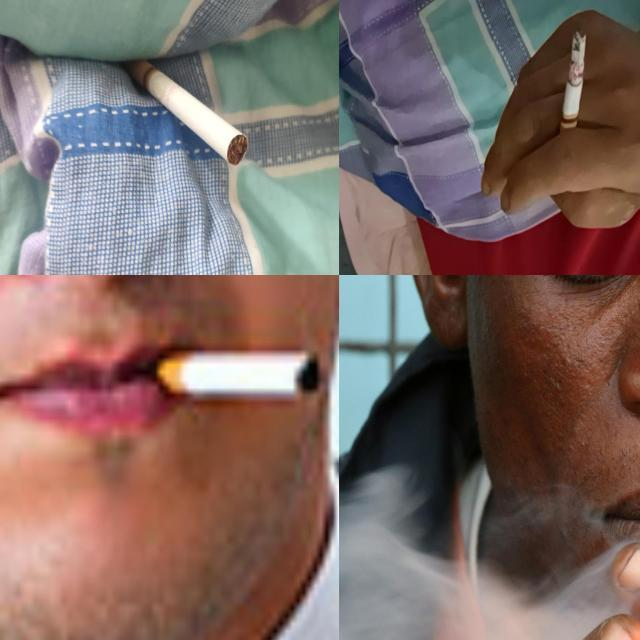smoking: (121, 56, 251, 166), (152, 338, 318, 399), (554, 30, 588, 160)
